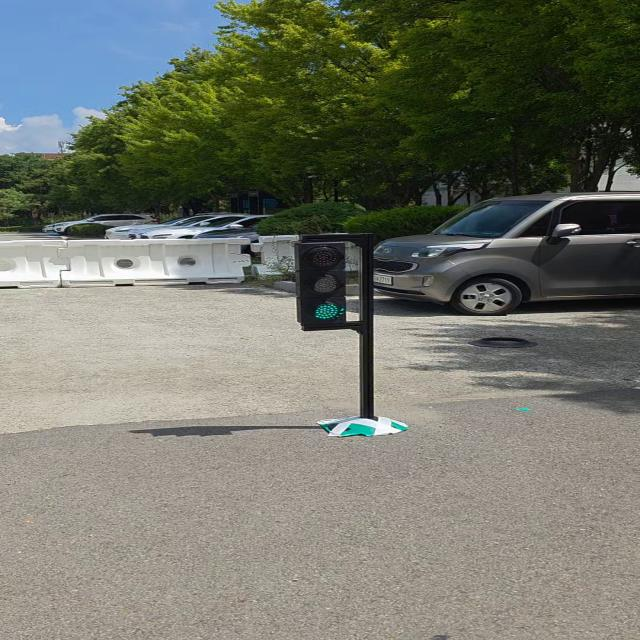green: (293, 236, 348, 332)
